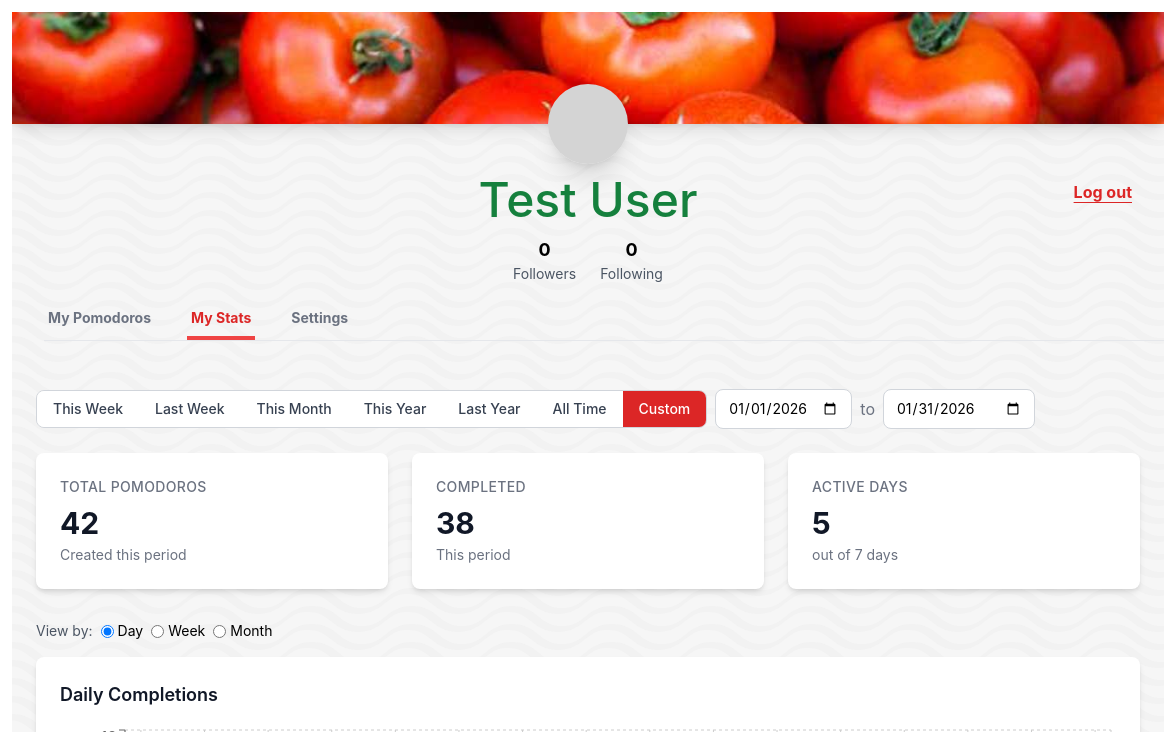
Scenario: UserStats Component › Custom Date Range Controls › hides custom date inputs when switching to another preset
Check: the element with test id "custom-date-range" is shown, box [715,389,1035,429]
# Switch to "This Week"
What coordinates should you click on to do the following:
click the button "This Week"
I would click on:
 (88, 409)
Its box is [37,391,139,427].
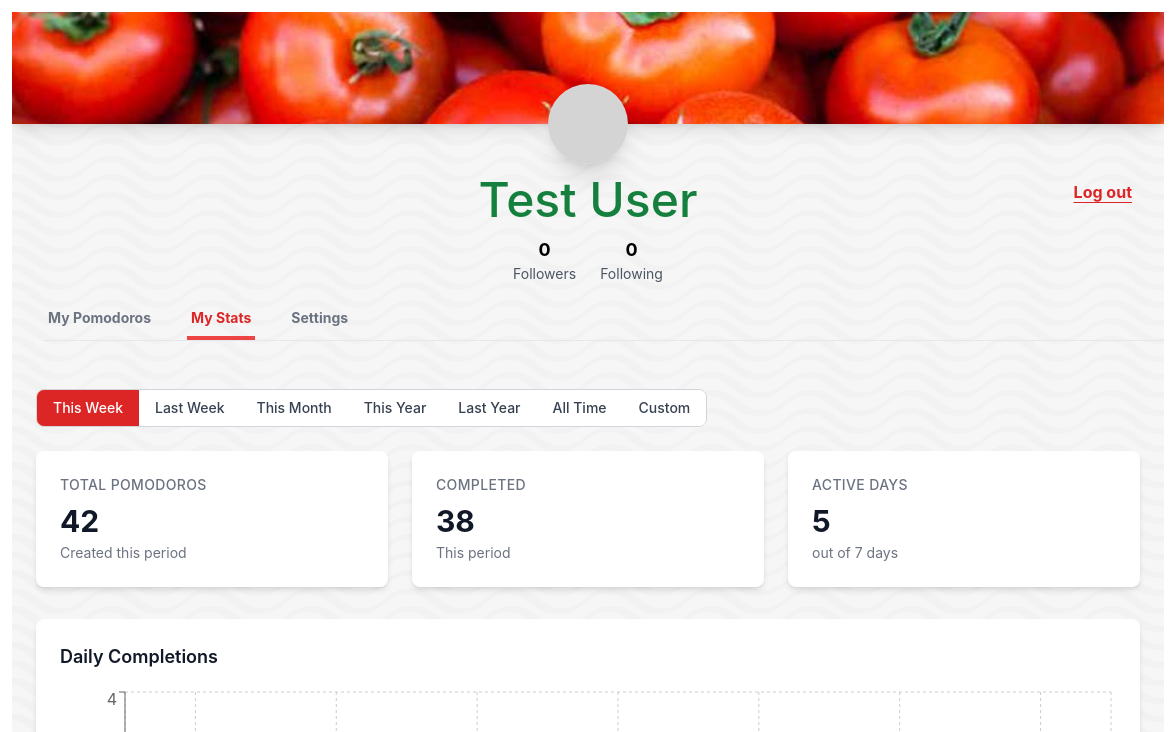
Check: the element with test id "custom-date-range" is gone
